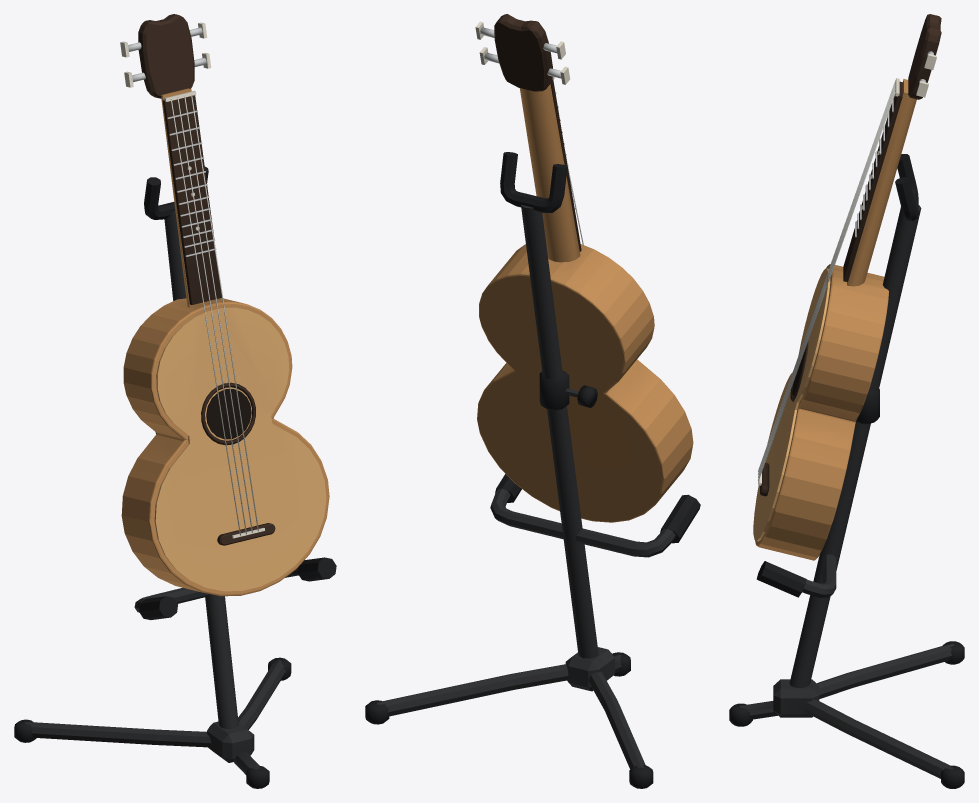
File: ukulele.glb
The picture shows the model from 3 angles, left to right: view 1: azimuth 30°, elevation 25°; view 2: azimuth 150°, elevation 25°; view 3: azimuth 270°, elevation 25°; orthographic projection. The views are drawn at different scales.
Visible parts, largest first — view 1: ukulele, stand; view 2: ukulele, stand; view 3: ukulele, stand.
Boxes of the visible parts, bbox=[...] form: ukulele: bbox=[120, 14, 329, 596]; stand: bbox=[14, 166, 336, 788]; ukulele: bbox=[475, 14, 693, 522]; stand: bbox=[365, 152, 700, 788]; ukulele: bbox=[753, 14, 941, 560]; stand: bbox=[729, 154, 964, 788].
Size of the model in its own units: 0.3447 by 0.8418 by 0.256.
